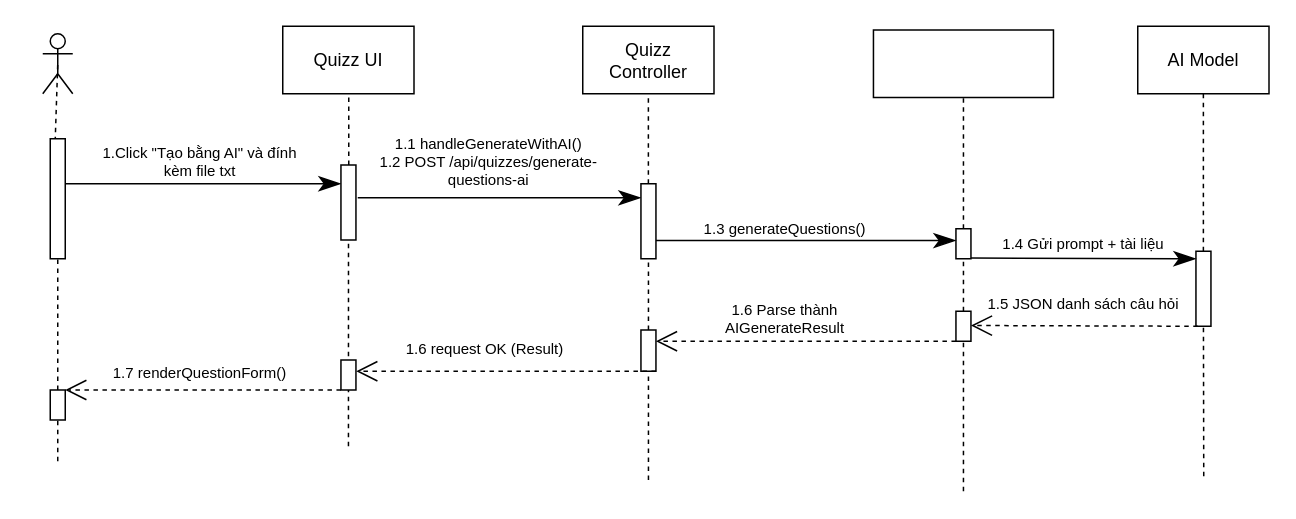
Image size: 1296x519. Some labels were removed from this diagram. The centre of each missing label's shape, as x and y in pixels:
AIQuestionGenerator Service: (x=962, y=63)
Teacher: (x=57, y=63)
